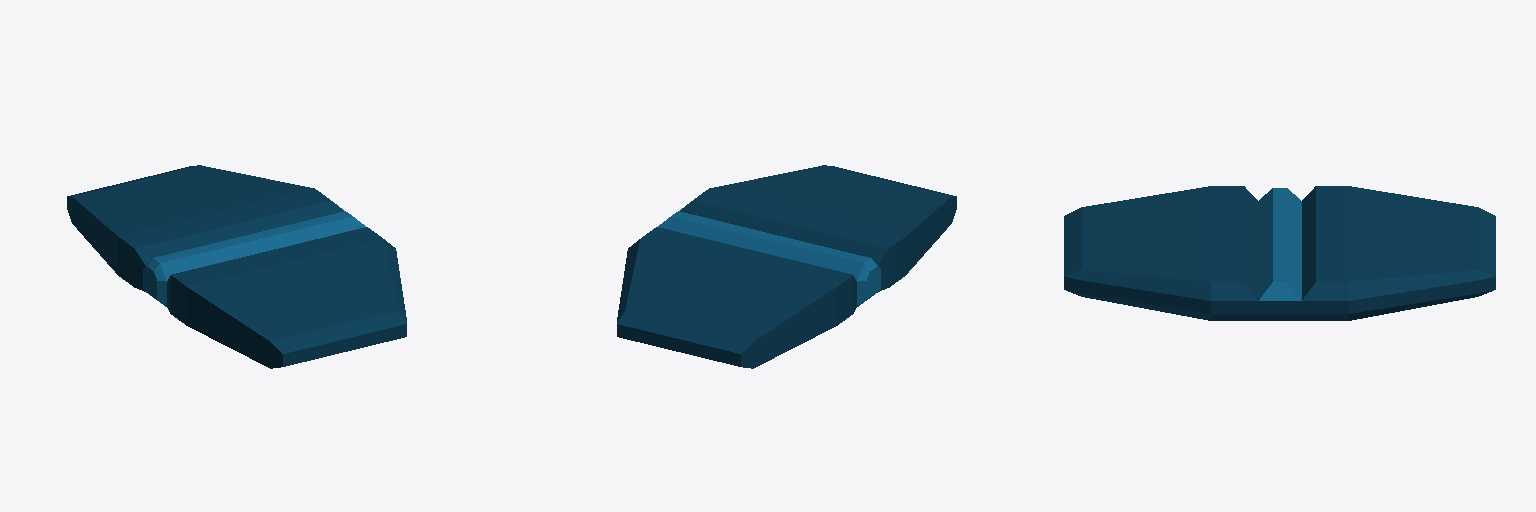
Rendered from Spacestation_Structure_Wing_Double.obj.
The picture shows the model from 3 angles: view 1: azimuth 30°, elevation 25°; view 2: azimuth 150°, elevation 25°; view 3: azimuth 270°, elevation 25°; orthographic projection.
Visible parts, largest first — view 1: object2, object1; view 2: object2, object1; view 3: object2, object1.
Boxes of the visible parts, x1,y1,x2,y2 form: object2: [67, 165, 406, 368]; object1: [143, 211, 365, 306]; object2: [617, 165, 956, 368]; object1: [658, 211, 880, 306]; object2: [1064, 186, 1495, 320]; object1: [1258, 188, 1301, 300].
Bounding box in the file's own units: 1.7 × 0.3 × 3.